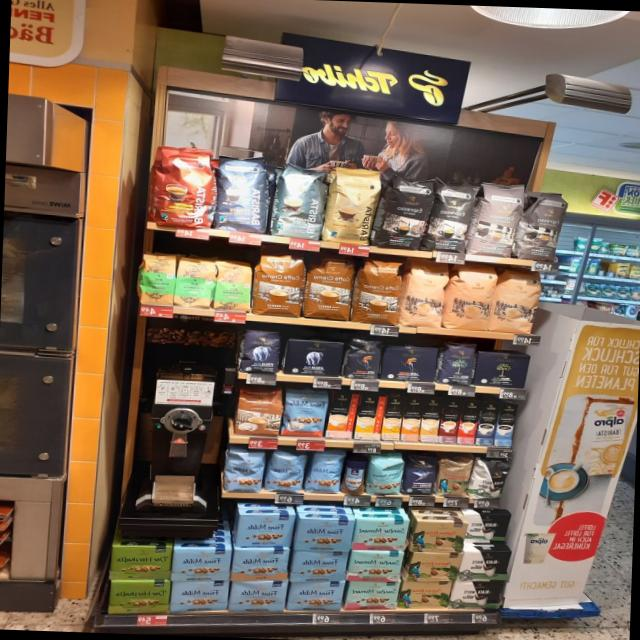AB Bohne: (238, 328, 280, 373)
AB Gemahlen: (284, 338, 344, 376), (138, 251, 178, 306)
Athiopien Gemahlen: (176, 255, 216, 308), (213, 262, 253, 312)
BM Bohne: (438, 340, 478, 386)
BM Gemahlen: (474, 350, 532, 390)
BW Bohne: (472, 462, 512, 499)
BW Gemahlen: (461, 548, 512, 582), (451, 580, 502, 610), (463, 513, 510, 544)
Barista CB: (319, 163, 384, 247)
Barista CC: (268, 160, 331, 241), (214, 152, 272, 234)
Barista Kolumbien: (154, 148, 218, 226)
C Fino Bohne: (402, 454, 437, 494)
CC Mild: (443, 262, 497, 330), (400, 259, 448, 328), (492, 270, 543, 334)
CC Vollmundig: (234, 387, 282, 438)
CC Vollmundig 36 Pads: (250, 249, 304, 318), (351, 258, 402, 324), (302, 252, 352, 319)
Colombia BB Bohne: (436, 457, 474, 497)
Colombia BB Gemahlen: (410, 519, 469, 554), (404, 550, 464, 584), (398, 578, 452, 610)
Espresso Aromatisch: (465, 179, 528, 258), (513, 186, 570, 263)
Espresso Kraftig: (368, 170, 437, 251), (419, 178, 477, 253)
FM 36 Pads: (280, 388, 328, 439)
FM Bohne: (222, 448, 266, 494), (264, 450, 308, 494), (304, 452, 346, 494)
FM Gemahlen: (230, 544, 291, 583), (170, 544, 232, 582), (170, 577, 230, 615), (236, 510, 296, 548), (228, 577, 288, 614), (286, 578, 346, 612)
FM Instant: (339, 458, 366, 496)
Herzhatfe Mundig: (108, 542, 172, 582), (105, 577, 169, 616)
LG Bohne: (344, 336, 381, 379)
LG Gemahlen: (380, 344, 439, 382)
SM Bohne: (366, 454, 405, 496)
SM Gemahlen: (352, 517, 410, 552), (347, 548, 405, 582), (344, 580, 400, 610)
Simo CCMild: (353, 394, 386, 440)
Simo CCMild bigpack: (381, 395, 404, 440)
Simo CCVollmundig: (325, 391, 359, 438)
Simo CCVollmundig bigpack: (400, 396, 423, 440)
Simo Decaff: (419, 397, 442, 441)
Simo Es Brazil: (456, 399, 480, 444)
Simo Es Caramel: (437, 397, 462, 442)
Simo Es Kraft: (474, 400, 500, 444)
Simo Es Vanilla: (493, 401, 517, 446)
